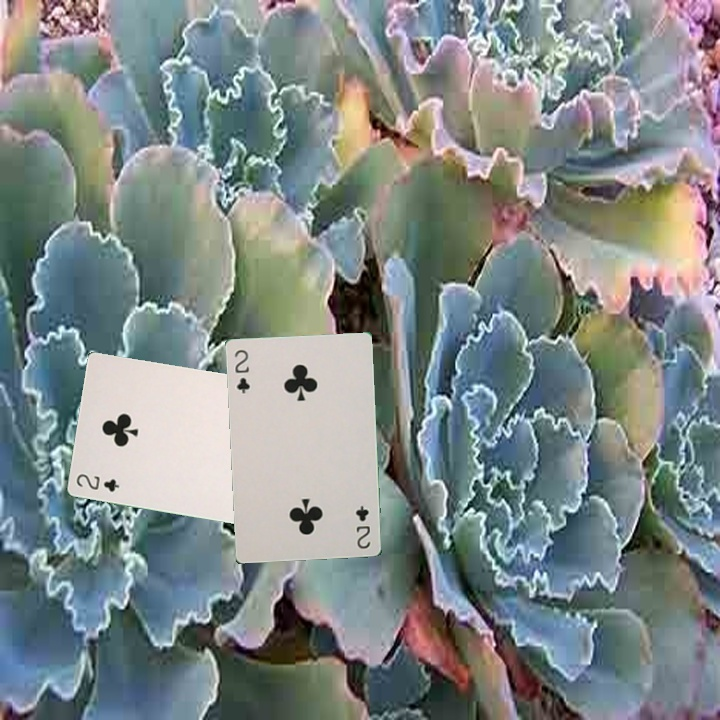2c: (72, 470, 122, 494), (231, 346, 252, 396), (352, 501, 373, 551)
